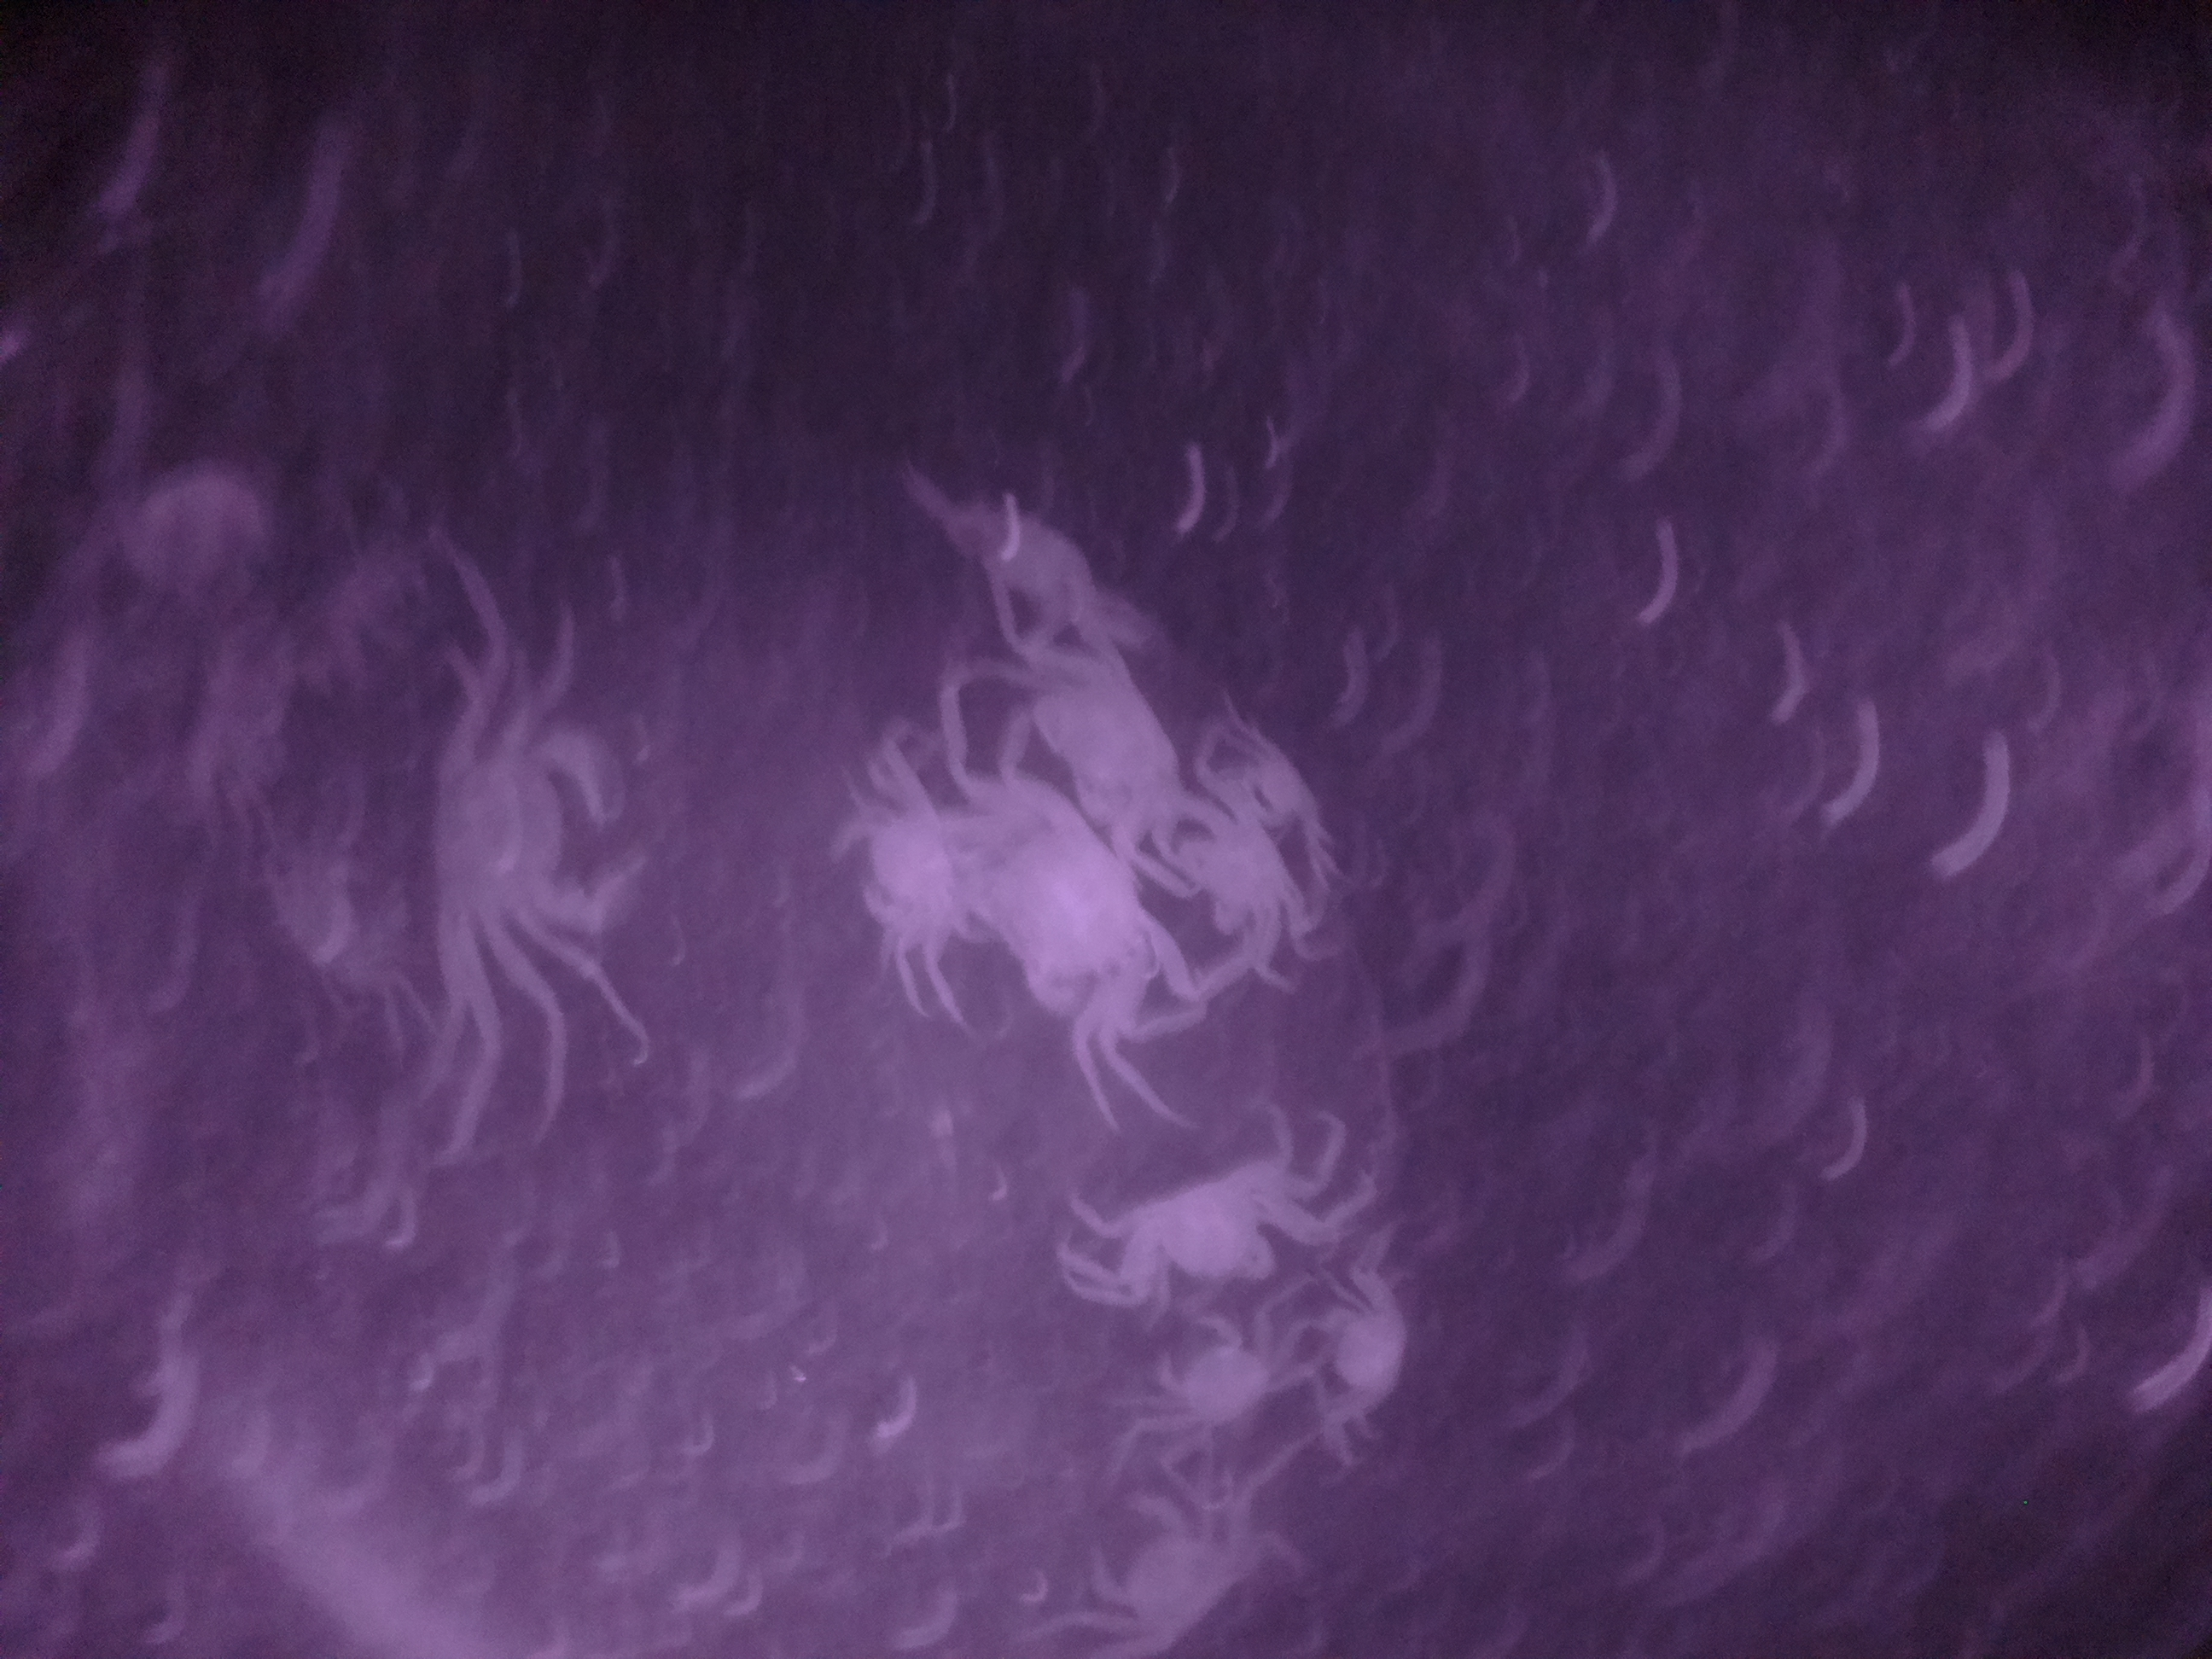Crab: (1094, 1140, 1301, 1305), (829, 770, 975, 948), (1303, 1255, 1430, 1427), (1146, 1298, 1285, 1455)
